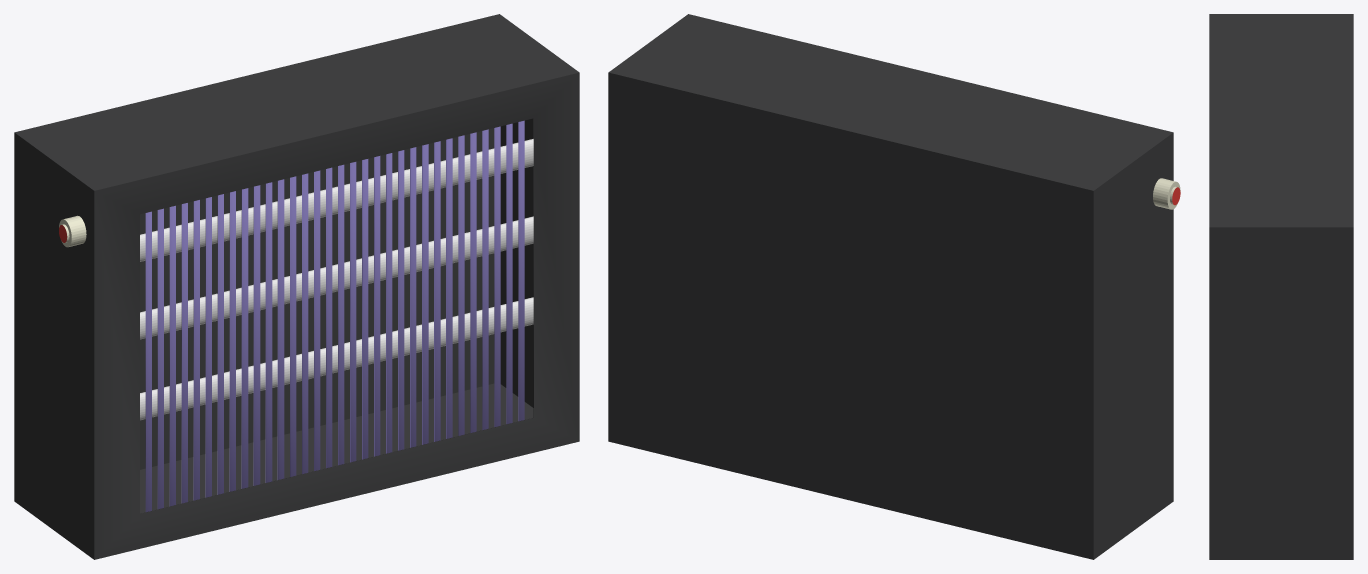
File: isitici.fbx
The picture shows the model from 3 angles, left to right: view 1: azimuth 30°, elevation 25°; view 2: azimuth 150°, elevation 25°; view 3: azimuth 270°, elevation 25°; orthographic projection. The views are drawn at different scales.
Visible parts, largest first — view 1: Cube.008; view 2: Cube.008; view 3: Cube.008.
Part boxes in pixels (bbox=[...]): Cube.008: bbox=[14, 14, 579, 559]; Cube.008: bbox=[608, 14, 1180, 559]; Cube.008: bbox=[1209, 14, 1353, 559].
Size of the model in its own units: 3237 by 2273 by 892.
